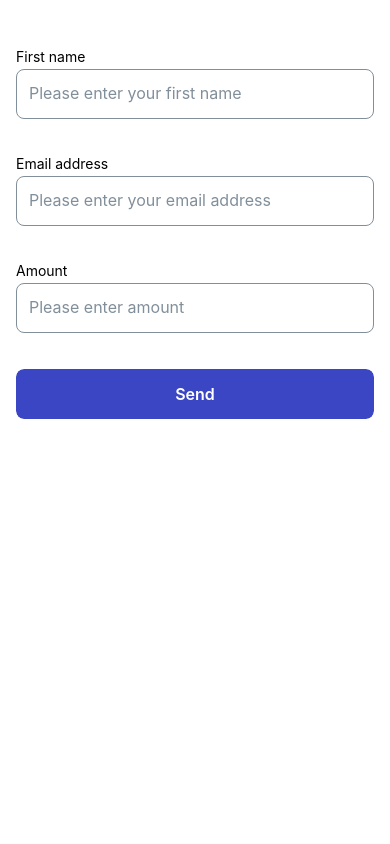
Test: Test Hooks › waits for Banner
This screenshot has width=390, height=844.
Type "Changed text" into the field with test id "First name" at (195, 94), box [17, 70, 373, 118]
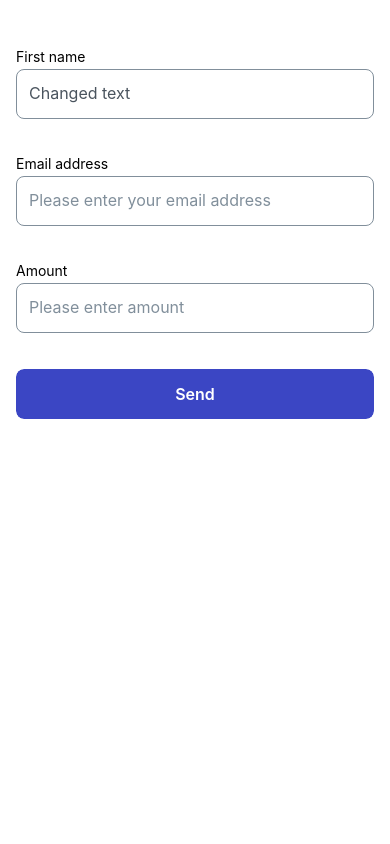
Type "abc@gmail.com" into the field with test id "Email address" at (195, 201), box [17, 177, 373, 225]
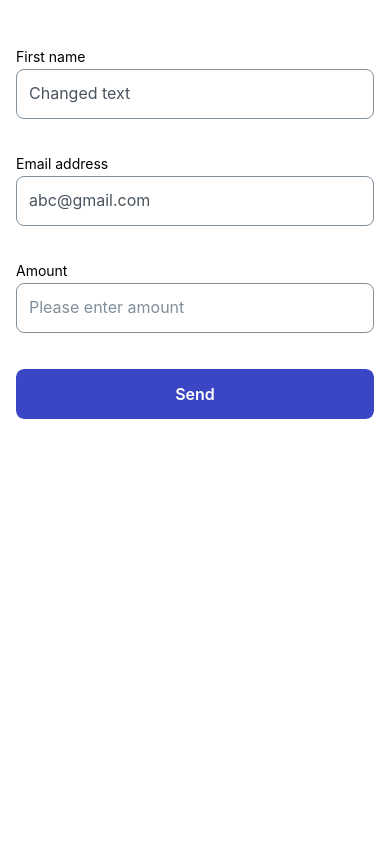
Type "123" into the field with test id "Amount" at (195, 308), box [17, 284, 373, 332]
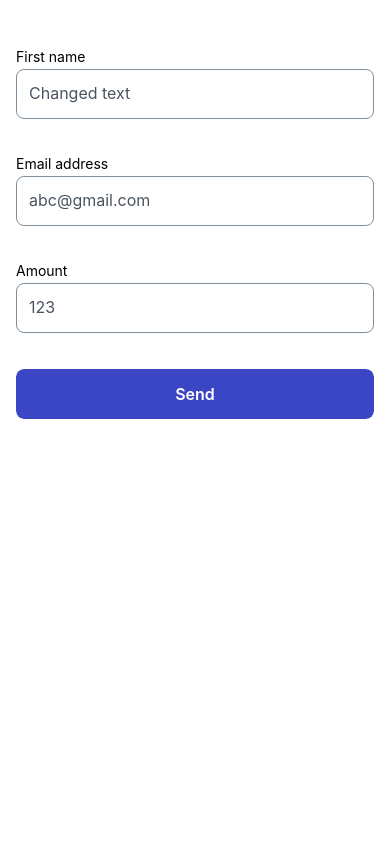
Expected: the text "Transactions" is not shown
Click the element with test id "button" at (195, 394), box [16, 369, 374, 419]
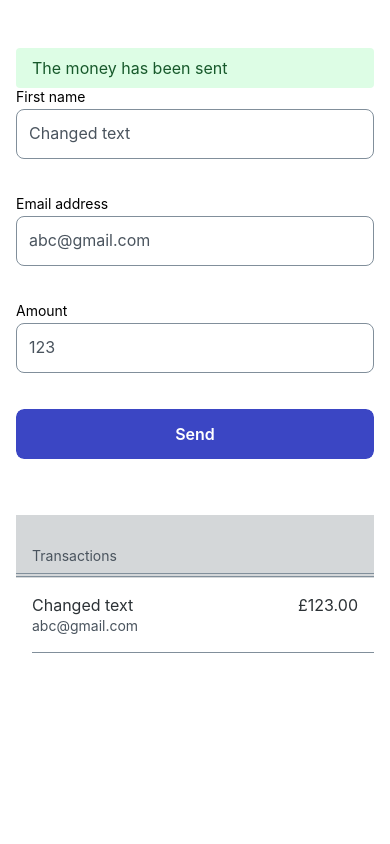
Now the text "The money has been sent" is shown, box [32, 58, 228, 78]
Now the text "Transactions" is shown, box [32, 547, 117, 564]
Now the text "£123.00" is shown, box [298, 595, 358, 615]
